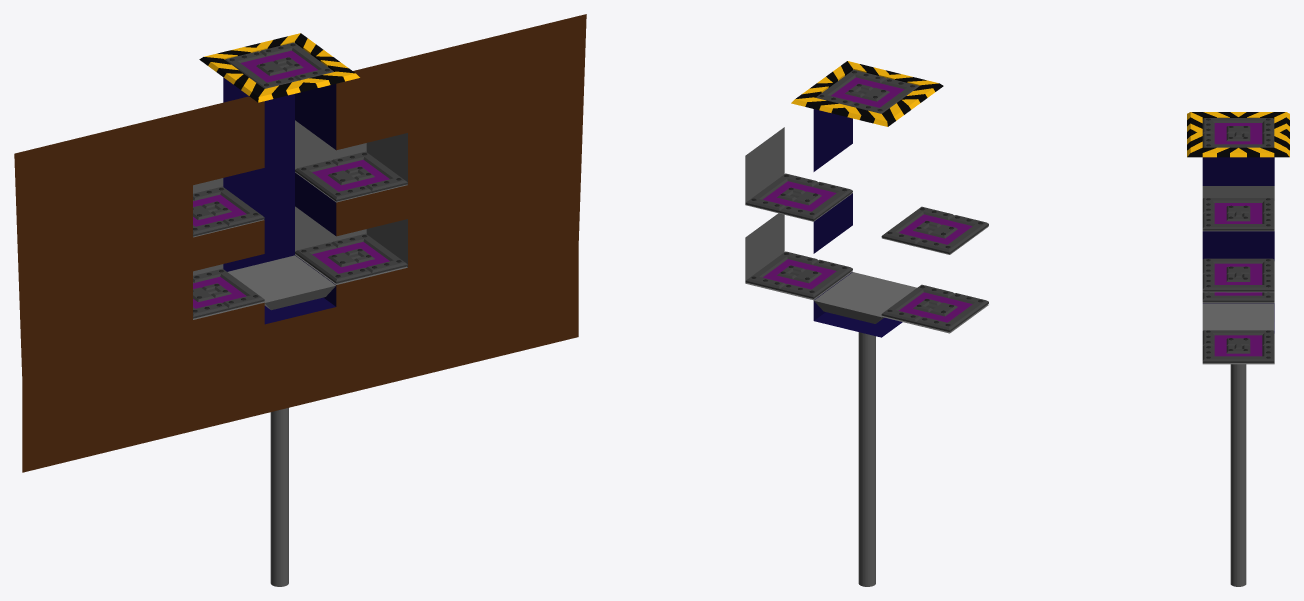
File: underground_base.gltf
3 views of the same model, side by side, from view 1: azimuth 30°, elevation 25°; view 2: azimuth 150°, elevation 25°; view 3: azimuth 270°, elevation 25° (orthographic). The views are drawn at different scales.
Visible parts, largest first — view 1: ElevatorShaft, Elevator, DoorBorder, DoorLeft.TopRight, DoorLeft.BottomRight, DoorRight.TopRight, DoorRight.BottomRight, DoorRight.TopLeft, DoorRight.BottomLeft, DoorLeft, DoorRight, DoorLeft.TopLeft (+1 smaller); view 2: ElevatorShaft, Elevator, DoorBorder, DoorLeft.BottomRight, DoorLeft.TopLeft, DoorLeft.BottomLeft, DoorLeft.TopRight, DoorRight.TopLeft, DoorRight.BottomRight, DoorRight.BottomLeft, DoorRight.TopRight, DoorLeft (+1 smaller); view 3: Elevator, ElevatorShaft, DoorBorder, DoorRight.TopRight, DoorRight.TopLeft, DoorRight.BottomRight, DoorLeft.TopRight, DoorLeft.BottomRight, DoorLeft, DoorLeft.TopLeft, DoorRight, DoorRight.BottomLeft.
Part boxes in pixels (left/top/right/bottom): ElevatorShaft: left=14, top=14, right=586, bottom=472; Elevator: left=228, top=255, right=335, bottom=586; DoorBorder: left=199, top=33, right=359, bottom=102; DoorLeft.TopRight: left=295, top=160, right=371, bottom=201; DoorLeft.BottomRight: left=295, top=242, right=371, bottom=283; DoorRight.TopRight: left=331, top=151, right=407, bottom=192; DoorRight.BottomRight: left=331, top=233, right=407, bottom=274; DoorRight.TopLeft: left=193, top=186, right=264, bottom=227; DoorRight.BottomLeft: left=193, top=268, right=264, bottom=309; DoorLeft: left=225, top=51, right=298, bottom=88; DoorRight: left=259, top=42, right=333, bottom=80; DoorLeft.TopLeft: left=193, top=200, right=228, bottom=236; ElevatorShaft: left=745, top=109, right=988, bottom=337; Elevator: left=814, top=272, right=916, bottom=586; DoorBorder: left=791, top=61, right=943, bottom=126; DoorLeft.BottomRight: left=779, top=259, right=852, bottom=298; DoorLeft.TopLeft: left=915, top=215, right=988, bottom=254; DoorLeft.BottomLeft: left=915, top=293, right=988, bottom=331; DoorLeft.TopRight: left=779, top=182, right=852, bottom=220; DoorRight.TopLeft: left=881, top=206, right=954, bottom=245; DoorRight.BottomRight: left=745, top=251, right=818, bottom=290; DoorRight.BottomLeft: left=881, top=284, right=954, bottom=323; DoorRight.TopRight: left=745, top=173, right=818, bottom=212; DoorLeft: left=850, top=78, right=919, bottom=113; Elevator: left=1202, top=303, right=1274, bottom=586; ElevatorShaft: left=1202, top=157, right=1274, bottom=364; DoorBorder: left=1187, top=112, right=1289, bottom=157; DoorRight.TopRight: left=1202, top=274, right=1274, bottom=291; DoorRight.TopLeft: left=1202, top=213, right=1274, bottom=230; DoorRight.BottomRight: left=1202, top=345, right=1274, bottom=362; DoorLeft.TopRight: left=1202, top=258, right=1274, bottom=277; DoorLeft.BottomRight: left=1202, top=330, right=1274, bottom=348; DoorLeft: left=1202, top=118, right=1274, bottom=136; DoorLeft.TopLeft: left=1202, top=198, right=1274, bottom=216; DoorRight: left=1202, top=133, right=1274, bottom=147; DoorRight.BottomLeft: left=1202, top=292, right=1274, bottom=302.
Size of the model in its own units: 33.57 by 29.07 by 6.
